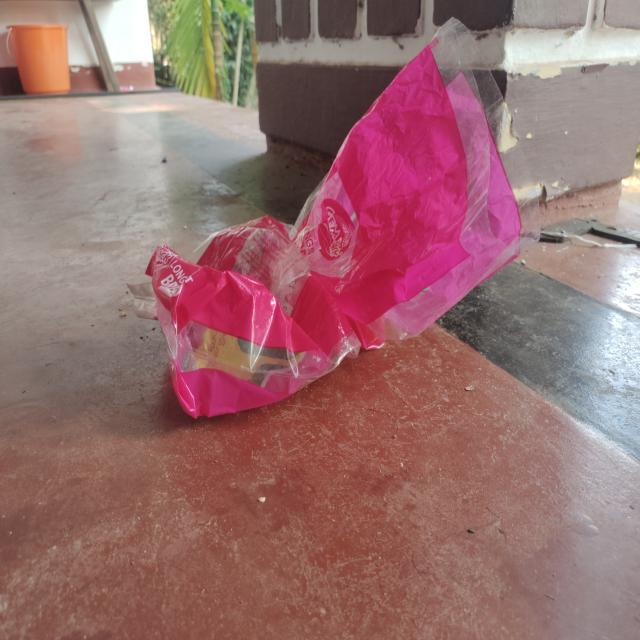plastic: (119, 13, 546, 422)
